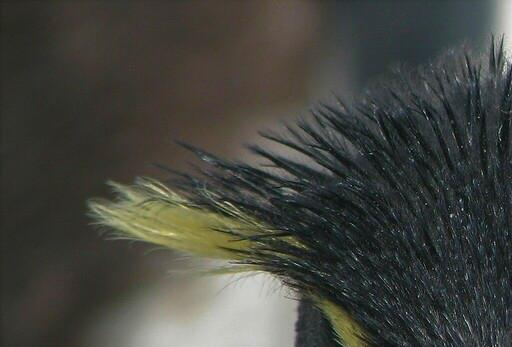Southern Rockhopper Penguin: (1, 3, 512, 347)
